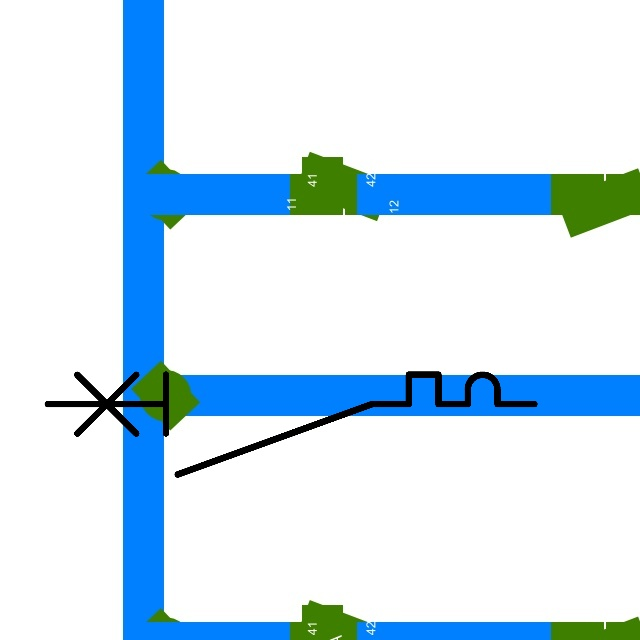interruptor_termomagnetico: (35, 362, 547, 487)
